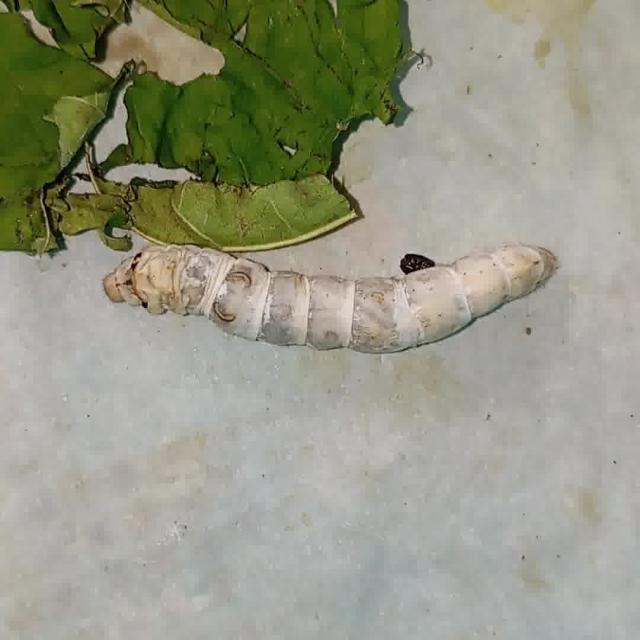Grasserie: (98, 208, 585, 386)
